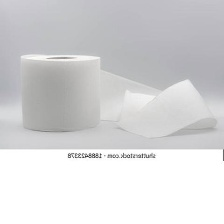tissue: (14, 47, 222, 142)
